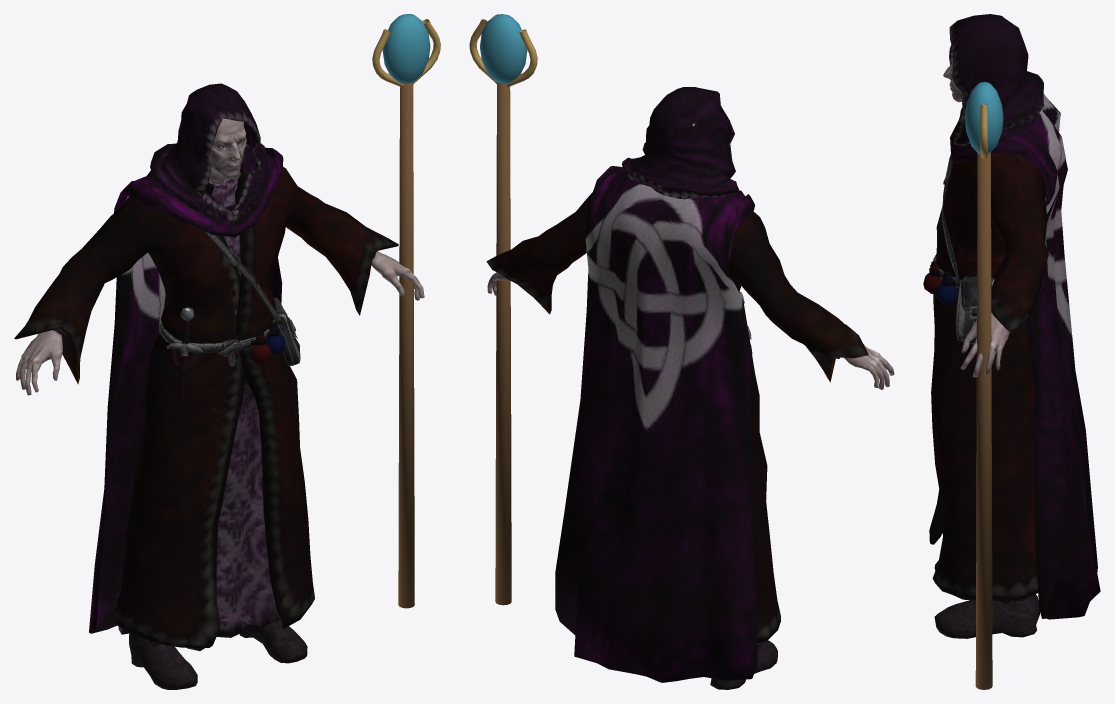
The model's file is actor-mage-mobile.glb.
The picture shows the model from 3 angles, left to right: view 1: azimuth 30°, elevation 25°; view 2: azimuth 150°, elevation 25°; view 3: azimuth 270°, elevation 25°; orthographic projection. The views are drawn at different scales.
Parts seen in each view (by area): view 1: mage · posed; view 2: mage · posed; view 3: mage · posed.
Boxes of the visible parts, x1,y1,x2,y2 form: mage · posed: (14,14,440,689); mage · posed: (469,14,894,689); mage · posed: (923,14,1100,689).
Size of the model in its own units: 1.53 by 2.1 by 0.5488.
4 materials, 1 textured.
